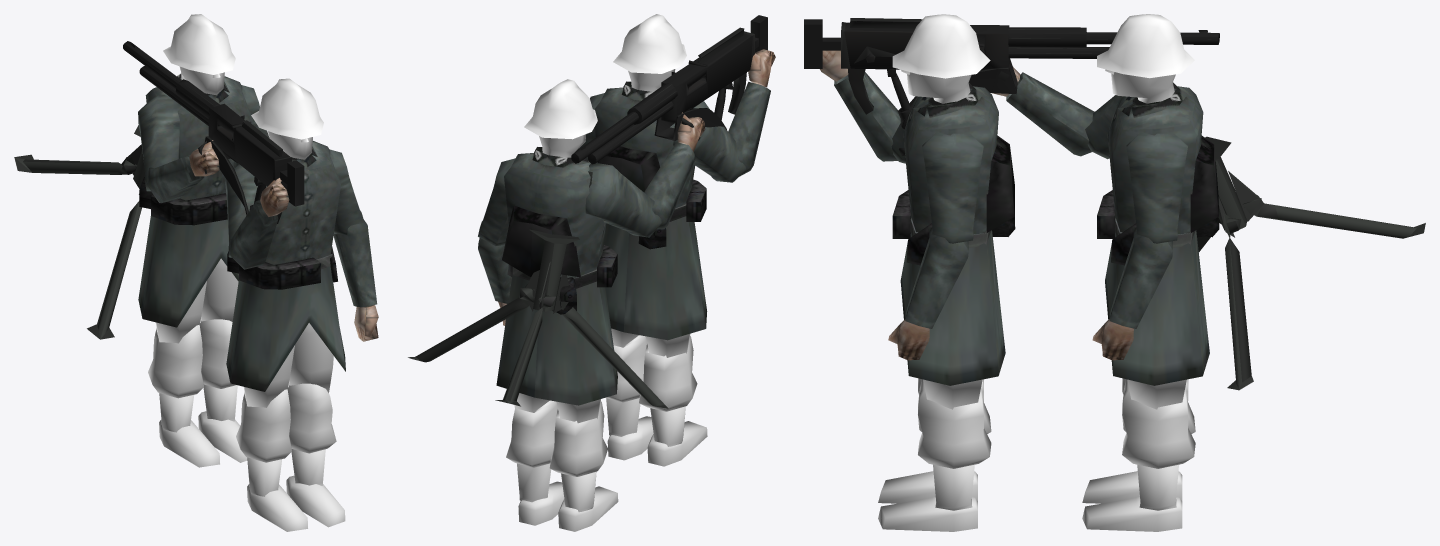
The model's file is frinfmach.dae.
3 views of the same model, side by side, from view 1: azimuth 30°, elevation 25°; view 2: azimuth 150°, elevation 25°; view 3: azimuth 270°, elevation 25° (orthographic). The views are drawn at different scales.
Parts seen in each view (by area): view 1: torso, torso2, gun, rloleg2, rloleg, gunbott, lloleg, head2, head, lloleg2, ruparm2, lloarm (+15 smaller); view 2: torso2, torso, gun, gunbott, rloleg2, rloleg, head2, lloleg2, head, ruparm2, lloleg, rloarm2 (+12 smaller); view 3: torso, torso2, gun, gunbott, lloleg2, lloleg, head2, head, luparm, luparm2, rloarm2, lloarm2 (+11 smaller).
Part boxes in pixels (x1,y1,x2,y2): torso: (226, 141, 345, 391); torso2: (138, 73, 252, 327); gun: (123, 41, 304, 223); rloleg2: (148, 325, 203, 432); rloleg: (236, 389, 291, 496); gunbott: (14, 125, 145, 339); lloleg: (287, 383, 336, 485); head2: (163, 14, 235, 95); head: (251, 78, 323, 159); lloleg2: (199, 318, 237, 421); ruparm2: (138, 94, 181, 191); lloarm: (333, 219, 377, 307); torso2: (496, 147, 617, 405); torso: (594, 81, 707, 340); gun: (571, 15, 767, 164); gunbott: (408, 229, 668, 408); rloleg2: (549, 401, 607, 512); rloleg: (639, 336, 697, 446); head2: (524, 79, 597, 157); lloleg2: (506, 400, 557, 502); head: (613, 14, 686, 91); ruparm2: (585, 163, 661, 237); lloleg: (605, 335, 647, 436); rloarm2: (644, 142, 695, 229); torso: (892, 82, 1015, 385); torso2: (1097, 82, 1219, 385); gun: (804, 18, 1219, 155); gunbott: (1197, 136, 1425, 390); lloleg2: (1122, 379, 1195, 510); lloleg: (918, 379, 991, 510); head2: (1097, 14, 1194, 103); head: (892, 14, 990, 103); luparm: (922, 132, 983, 243); luparm2: (1126, 132, 1187, 243); rloarm2: (1006, 72, 1094, 156); lloarm2: (1109, 227, 1172, 328).
Bounding box in the file's own units: 12.15 × 25.81 × 22.74.
4 materials, 1 textured.
